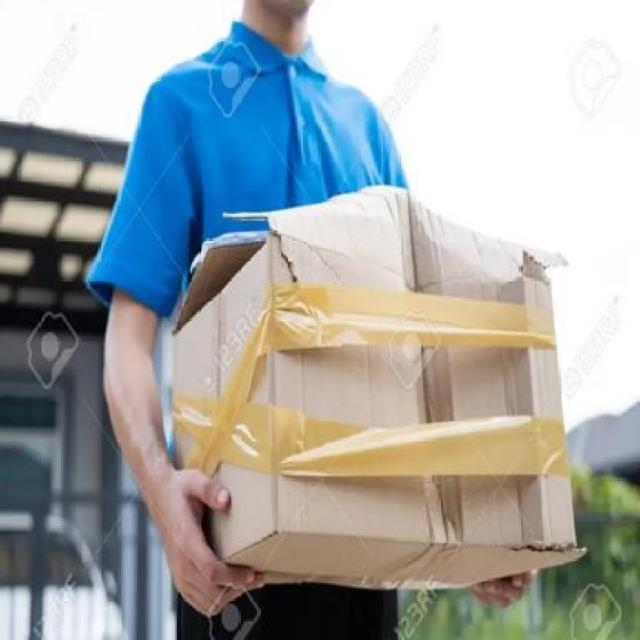Kardus kondisi rusak: (168, 185, 584, 593)
